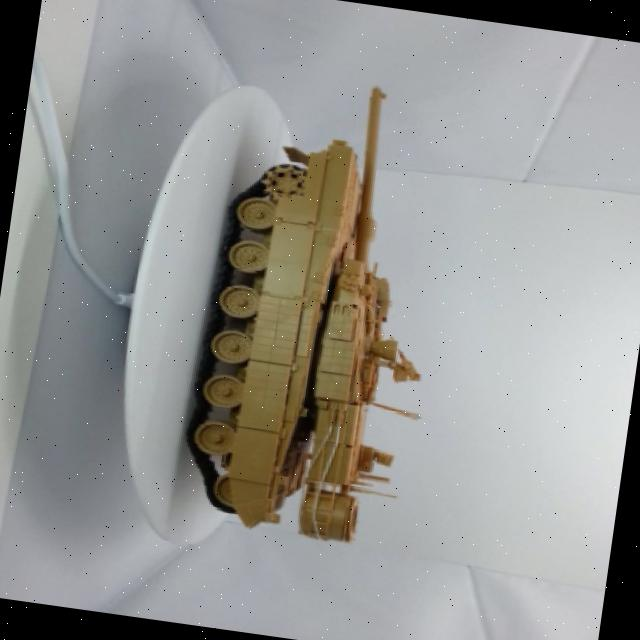korea tank: (158, 55, 482, 559)
